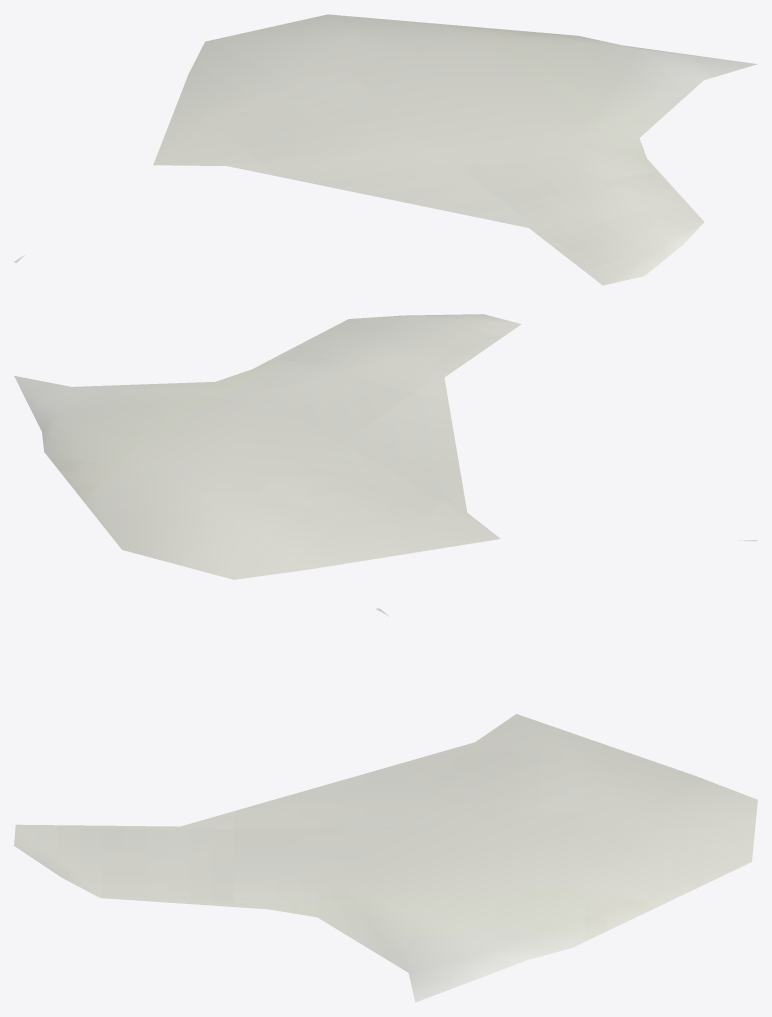
3 views of the same model, one above another, from view 1: azimuth 30°, elevation 25°; view 2: azimuth 150°, elevation 25°; view 3: azimuth 270°, elevation 25° (orthographic). The views are drawn at different scales.
Bounding box in the file's own units: 0.8303 × 0.0241 × 0.6621.
1 material, 1 textured.
